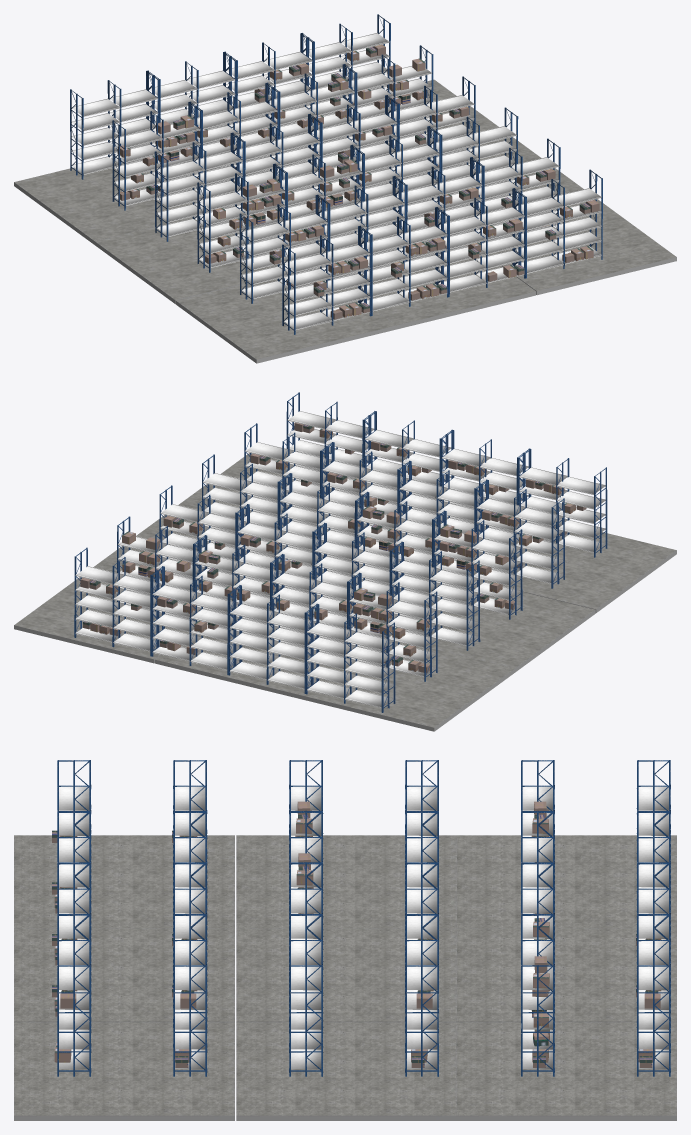
File: skladbig7.glb
The picture shows the model from 3 angles, top to bottom: view 1: azimuth 30°, elevation 25°; view 2: azimuth 150°, elevation 25°; view 3: azimuth 270°, elevation 25°; orthographic projection. The views are drawn at different scales.
Visible parts, largest first — view 1: mezanine racking.003, Плоскость, Плоскость.001, Плоскость.003, Плоскость.007, Плоскость.004, Плоскость.008, Плоскость.009; view 2: mezanine racking.003, Плоскость.003, Плоскость, Плоскость.001, Плоскость.009, Плоскость.006, Плоскость.007, Плоскость.008; view 3: mezanine racking.003, Плоскость.009, Плоскость.007, Плоскость.008, Плоскость.005, Плоскость.006, Плоскость.001, Плоскость.004, Плоскость, Плоскость.003.
Part boxes in pixels (left/top/right/bottom): mezanine racking.003: left=70, top=14, right=602, bottom=334; Плоскость: left=175, top=278, right=396, bottom=363; Плоскость.001: left=94, top=216, right=287, bottom=303; Плоскость.003: left=14, top=158, right=203, bottom=244; Плоскость.007: left=482, top=199, right=676, bottom=295; Плоскость.004: left=346, top=255, right=536, bottom=329; Плоскость.008: left=391, top=138, right=583, bottom=220; Плоскость.009: left=312, top=79, right=514, bottom=157; mezanine racking.003: left=74, top=392, right=607, bottom=712; Плоскость.003: left=294, top=641, right=514, bottom=731; Плоскость: left=474, top=524, right=676, bottom=612; Плоскость.001: left=389, top=583, right=595, bottom=672; Плоскость.009: left=14, top=566, right=194, bottom=663; Плоскость.006: left=154, top=633, right=330, bottom=697; Плоскость.007: left=178, top=453, right=364, bottom=536; Плоскость.008: left=95, top=515, right=246, bottom=598; mezanine racking.003: left=57, top=760, right=670, bottom=1076; Плоскость.009: left=456, top=1022, right=676, bottom=1120; Плоскость.007: left=14, top=1022, right=234, bottom=1120; Плоскость.008: left=236, top=1022, right=456, bottom=1120; Плоскость.005: left=236, top=928, right=456, bottom=1022; Плоскость.006: left=456, top=928, right=676, bottom=1022; Плоскость.001: left=236, top=835, right=456, bottom=928; Плоскость.004: left=14, top=928, right=234, bottom=1022; Плоскость: left=14, top=835, right=234, bottom=928; Плоскость.003: left=457, top=835, right=676, bottom=928.
Bounding box in the file's own units: 638 × 124 × 637.
197 materials, 197 textured.
